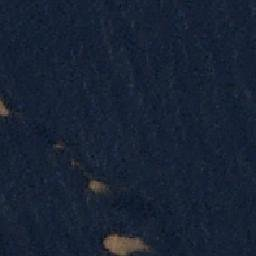debris: (100, 230, 149, 255), (86, 179, 111, 194), (1, 99, 13, 118), (52, 136, 68, 150), (66, 159, 81, 165)
